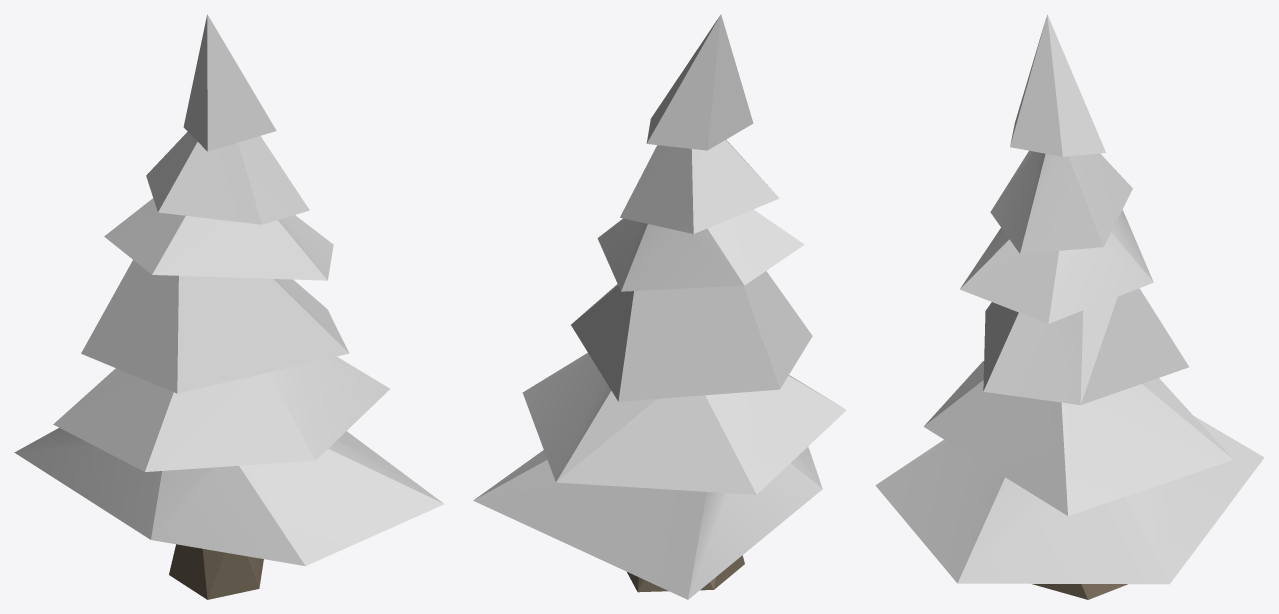
Rendered from Tree_Pine_Snow_06.fbx.
3 renders of one model, left to right at view 1: azimuth 30°, elevation 25°; view 2: azimuth 150°, elevation 25°; view 3: azimuth 270°, elevation 25°, orthographic. The views are drawn at different scales.
Visible parts, largest first — view 1: Model; view 2: Model; view 3: Model.
Boxes of the visible parts, x1,y1,x2,y2 form: Model: (14,14,444,599); Model: (473,14,846,599); Model: (875,14,1264,599).
Size of the model in its own units: 433 by 819 by 526.
